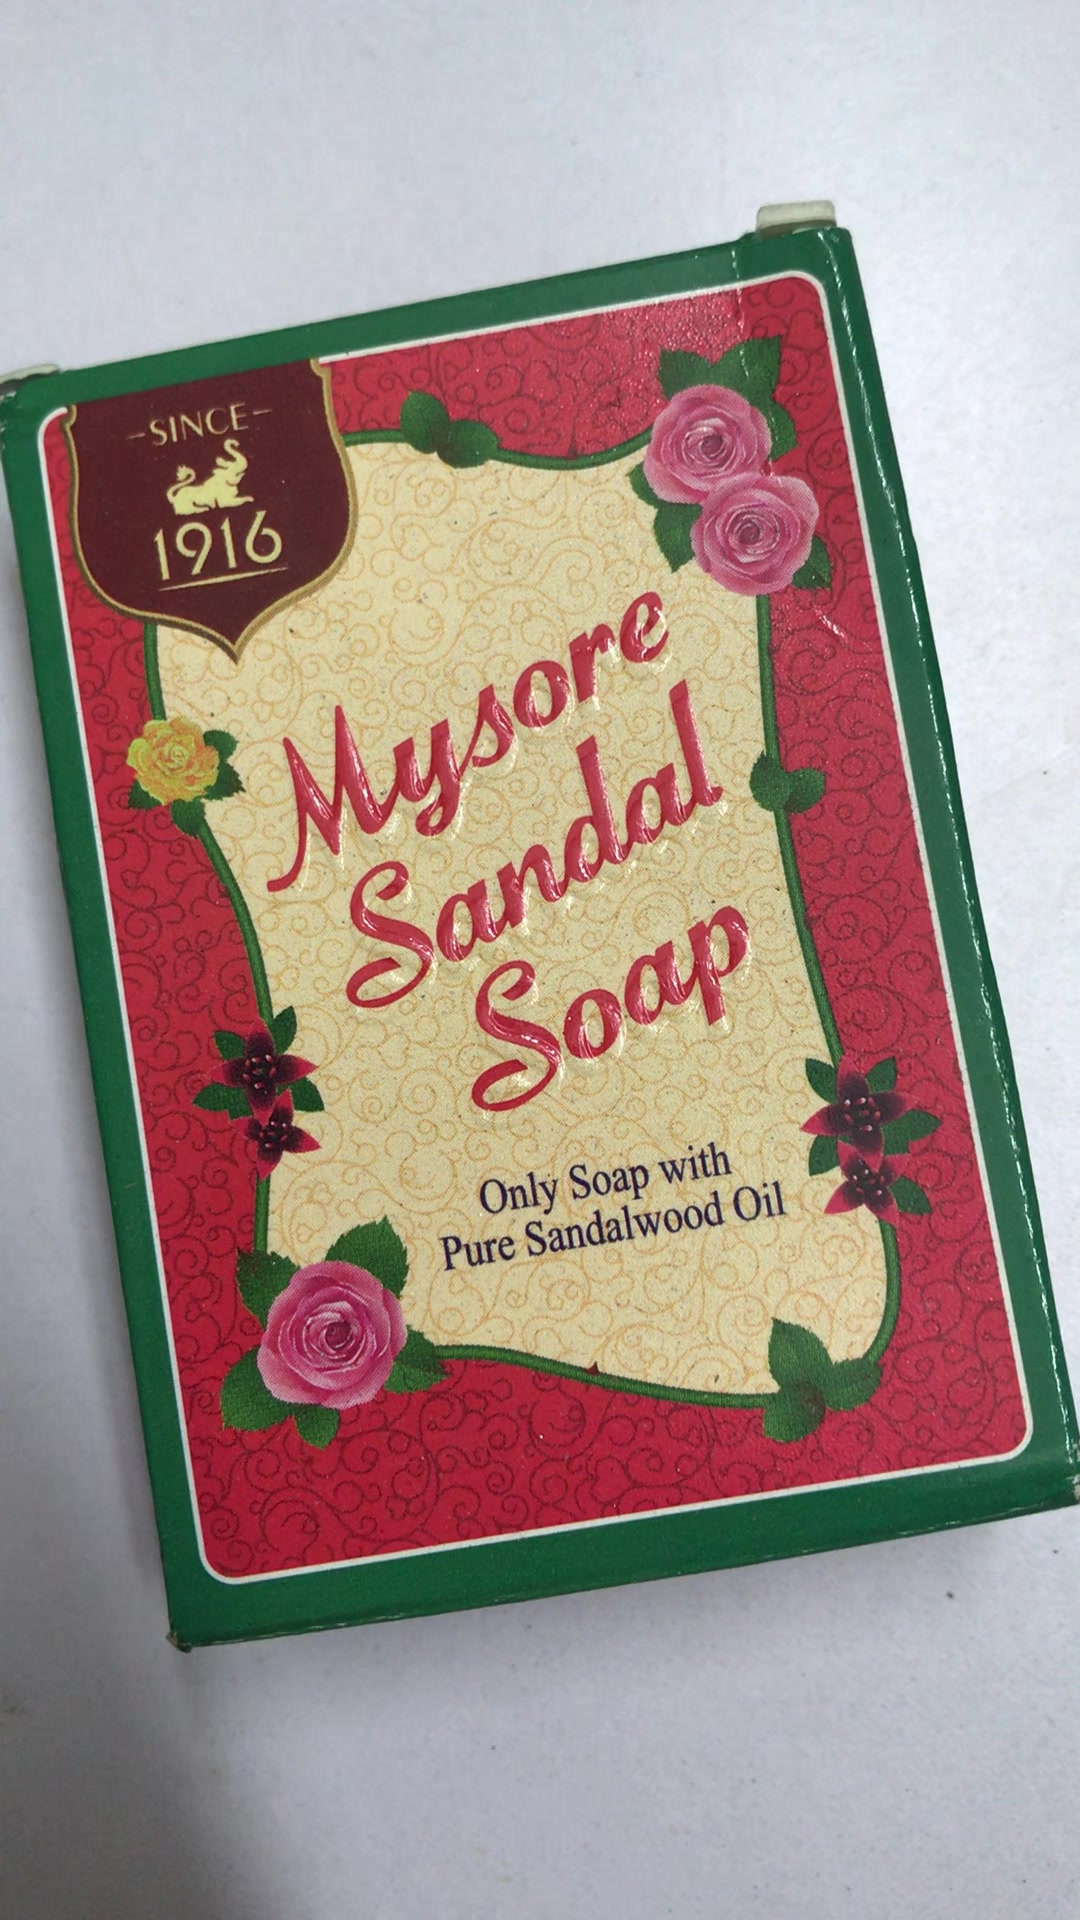mysore sandal soap: (9, 225, 1080, 1644)
